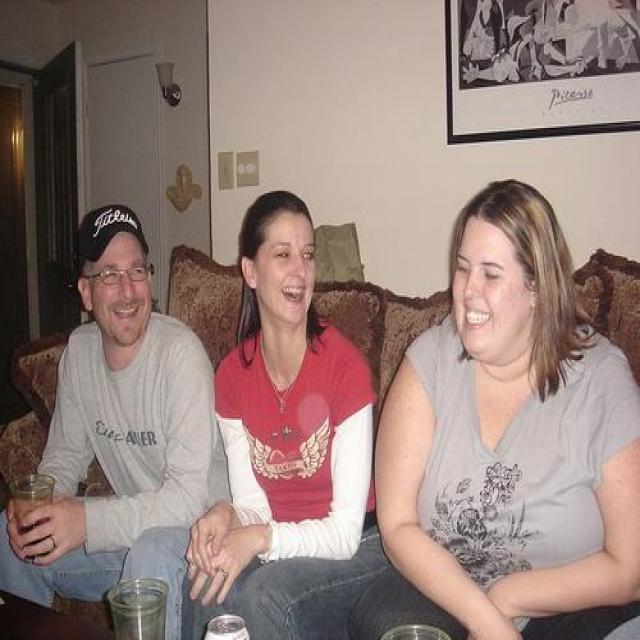No_Gloves: (180, 520, 252, 608), (19, 490, 87, 571), (180, 490, 234, 573), (4, 485, 45, 560), (467, 624, 524, 640)
